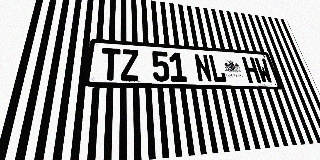1: (168, 52, 187, 82)
5: (152, 51, 170, 82)
H: (241, 57, 261, 83)
L: (208, 55, 227, 83)
N: (193, 54, 213, 82)
T: (100, 48, 120, 81)
W: (254, 58, 274, 84)
Z: (121, 49, 139, 81)
